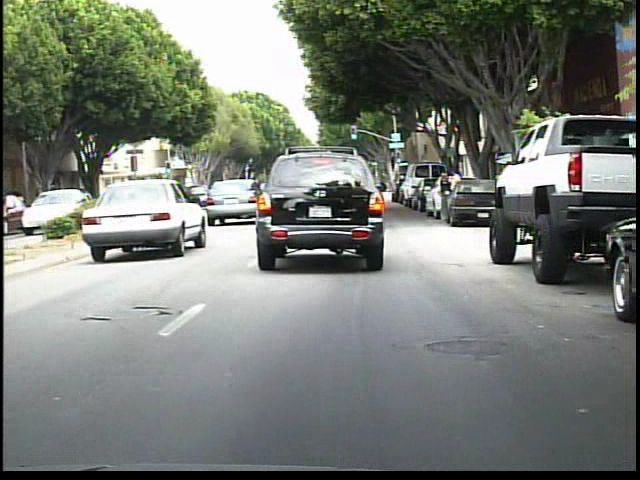person: (438, 173, 455, 225), (448, 166, 464, 218)
